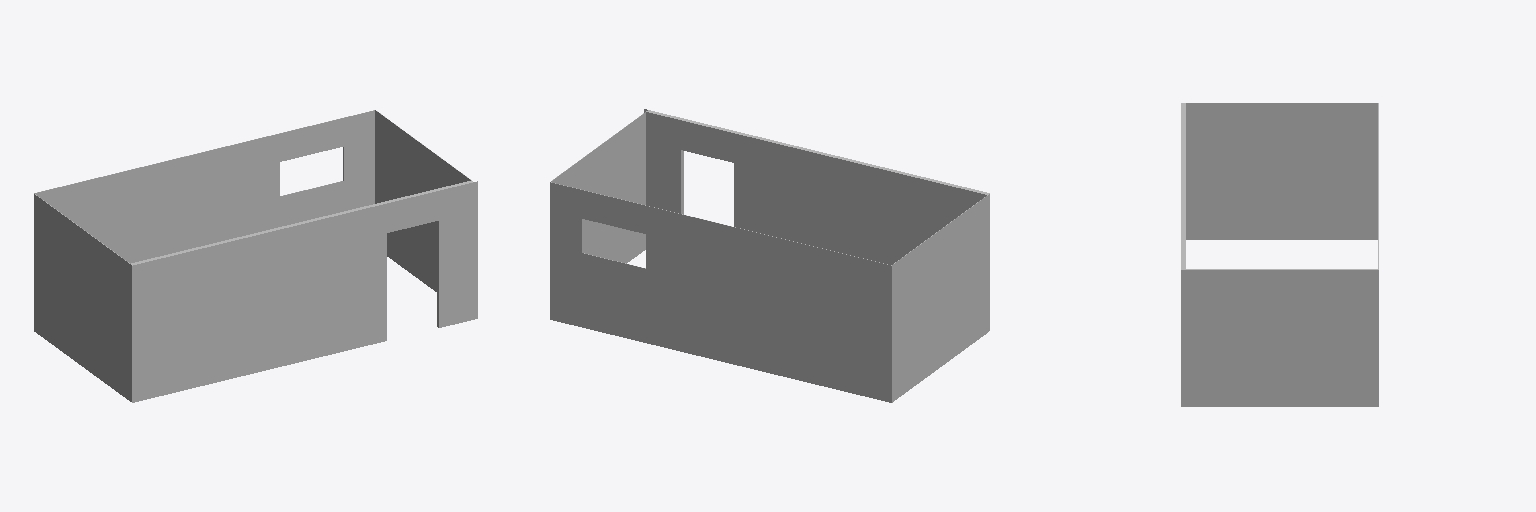
File: house_1stFloorCR_wall.obj
The picture shows the model from 3 angles: view 1: azimuth 30°, elevation 25°; view 2: azimuth 150°, elevation 25°; view 3: azimuth 270°, elevation 25°; orthographic projection.
Visible parts, largest first — view 1: Cube.068_Mesh, Cube.097_Mesh, Cube.100_Mesh, Cube.008_Mesh; view 2: Cube.097_Mesh, Cube.068_Mesh, Cube.100_Mesh, Cube.008_Mesh; view 3: Cube.008_Mesh, Cube.100_Mesh, Cube.068_Mesh.
Part boxes in pixels (bbox=[...]): Cube.068_Mesh: bbox=[130, 180, 477, 402]; Cube.097_Mesh: bbox=[34, 110, 374, 263]; Cube.100_Mesh: bbox=[34, 194, 129, 400]; Cube.008_Mesh: bbox=[375, 110, 470, 291]; Cube.097_Mesh: bbox=[550, 182, 891, 402]; Cube.068_Mesh: bbox=[644, 109, 989, 331]; Cube.100_Mesh: bbox=[892, 195, 987, 402]; Cube.008_Mesh: bbox=[551, 112, 645, 263]; Cube.008_Mesh: bbox=[1186, 269, 1377, 406]; Cube.100_Mesh: bbox=[1186, 103, 1377, 239]; Cube.068_Mesh: bbox=[1181, 103, 1185, 406].
Size of the model in its own units: 15.81 by 6 by 7.81.